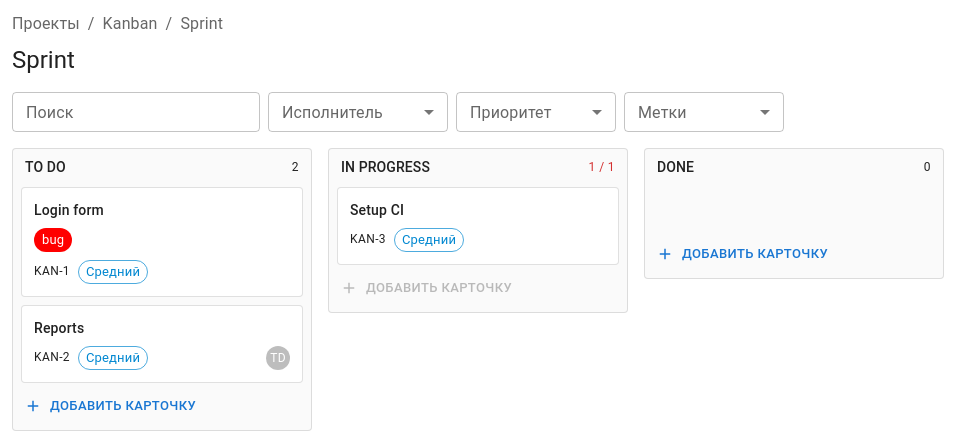
BoardPage › TC-02: создаёт карточку в колонке
Click the button with aria-label "Добавить карточку в колонку Done" at (794, 254), box [653,239,935,270]
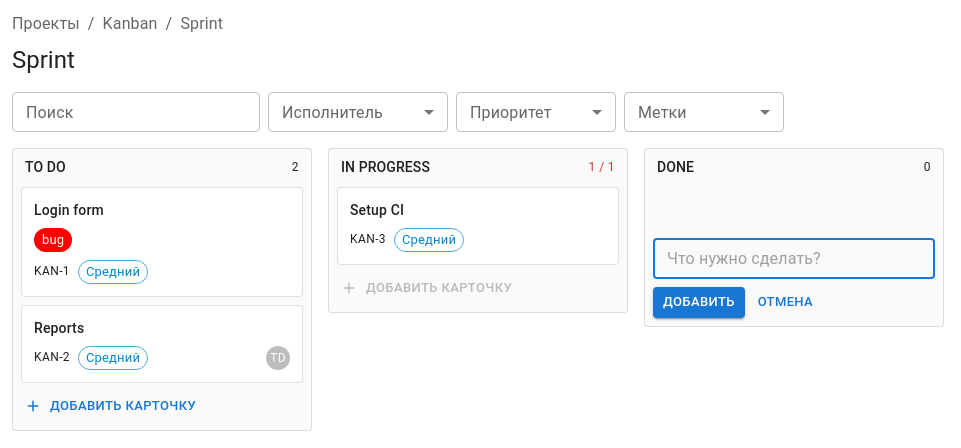
Type "Новая задача" into the text box named "Название карточки" at (794, 259), box [667,248,921,270]
Then press Enter
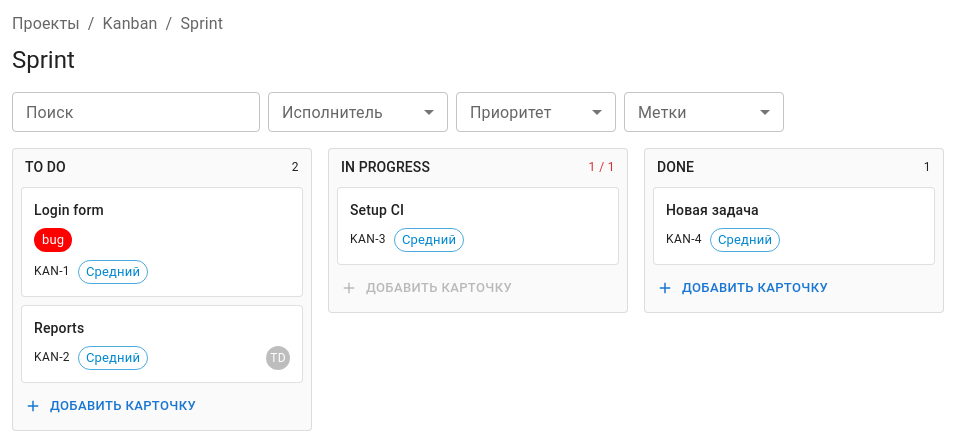
Now the text "Новая задача" is shown, box [666,202,759,218]
